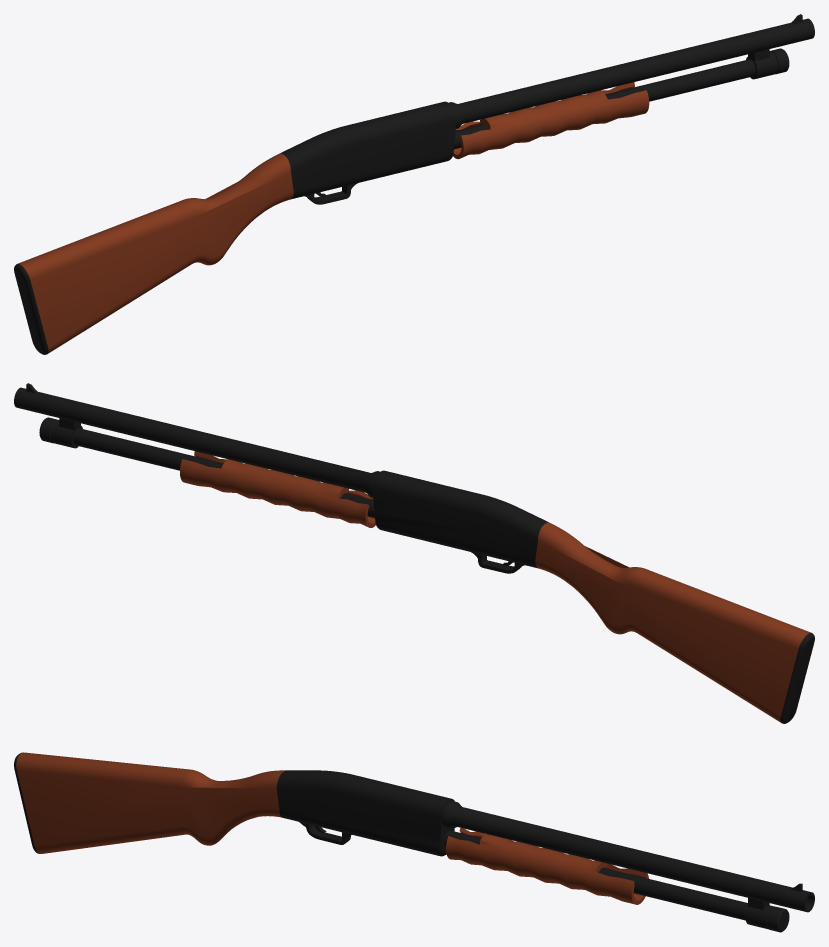
File: shotgun final.fbx
3 views of the same model, one above another, from view 1: azimuth 30°, elevation 25°; view 2: azimuth 150°, elevation 25°; view 3: azimuth 330°, elevation 25° (orthographic).
Parts seen in each view (by area): view 1: Base Handle, Up Barrel, Cockback, Down Barrel, Scope; view 2: Base Handle, Up Barrel, Cockback, Down Barrel, Scope; view 3: Base Handle, Up Barrel, Cockback, Down Barrel, Scope, Retopo_Base Handle, Switch.
Part boxes in pixels (x1,y1,x2,y2): Base Handle: (14, 101, 455, 354); Up Barrel: (448, 14, 814, 128); Cockback: (453, 82, 649, 159); Down Barrel: (454, 59, 755, 149); Scope: (746, 48, 789, 79); Base Handle: (373, 470, 814, 723); Up Barrel: (14, 383, 380, 497); Cockback: (180, 451, 375, 527); Down Barrel: (73, 428, 374, 518); Scope: (39, 417, 82, 448); Base Handle: (14, 752, 454, 856); Up Barrel: (441, 800, 814, 912); Cockback: (446, 828, 648, 904); Down Barrel: (444, 830, 747, 920); Scope: (745, 898, 789, 932); Retopo_Base Handle: (24, 776, 451, 836); Switch: (299, 822, 351, 844).
Size of the model in its own units: 335 by 61.96 by 12.82.
